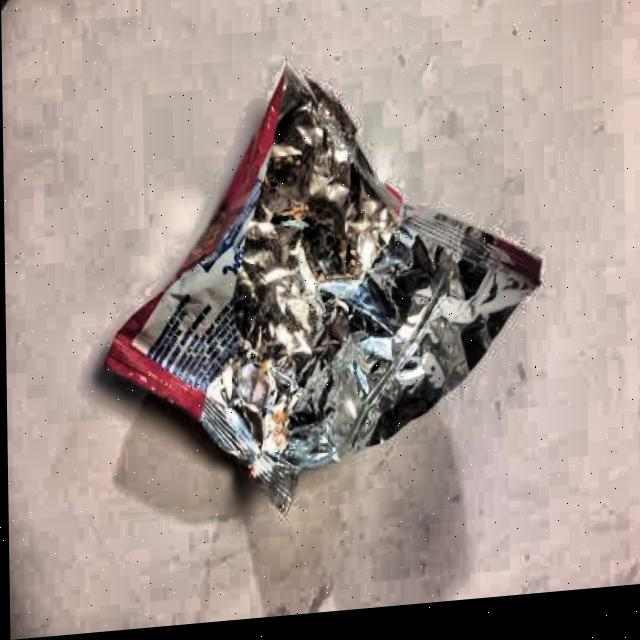biodegradable: (70, 28, 563, 526)
